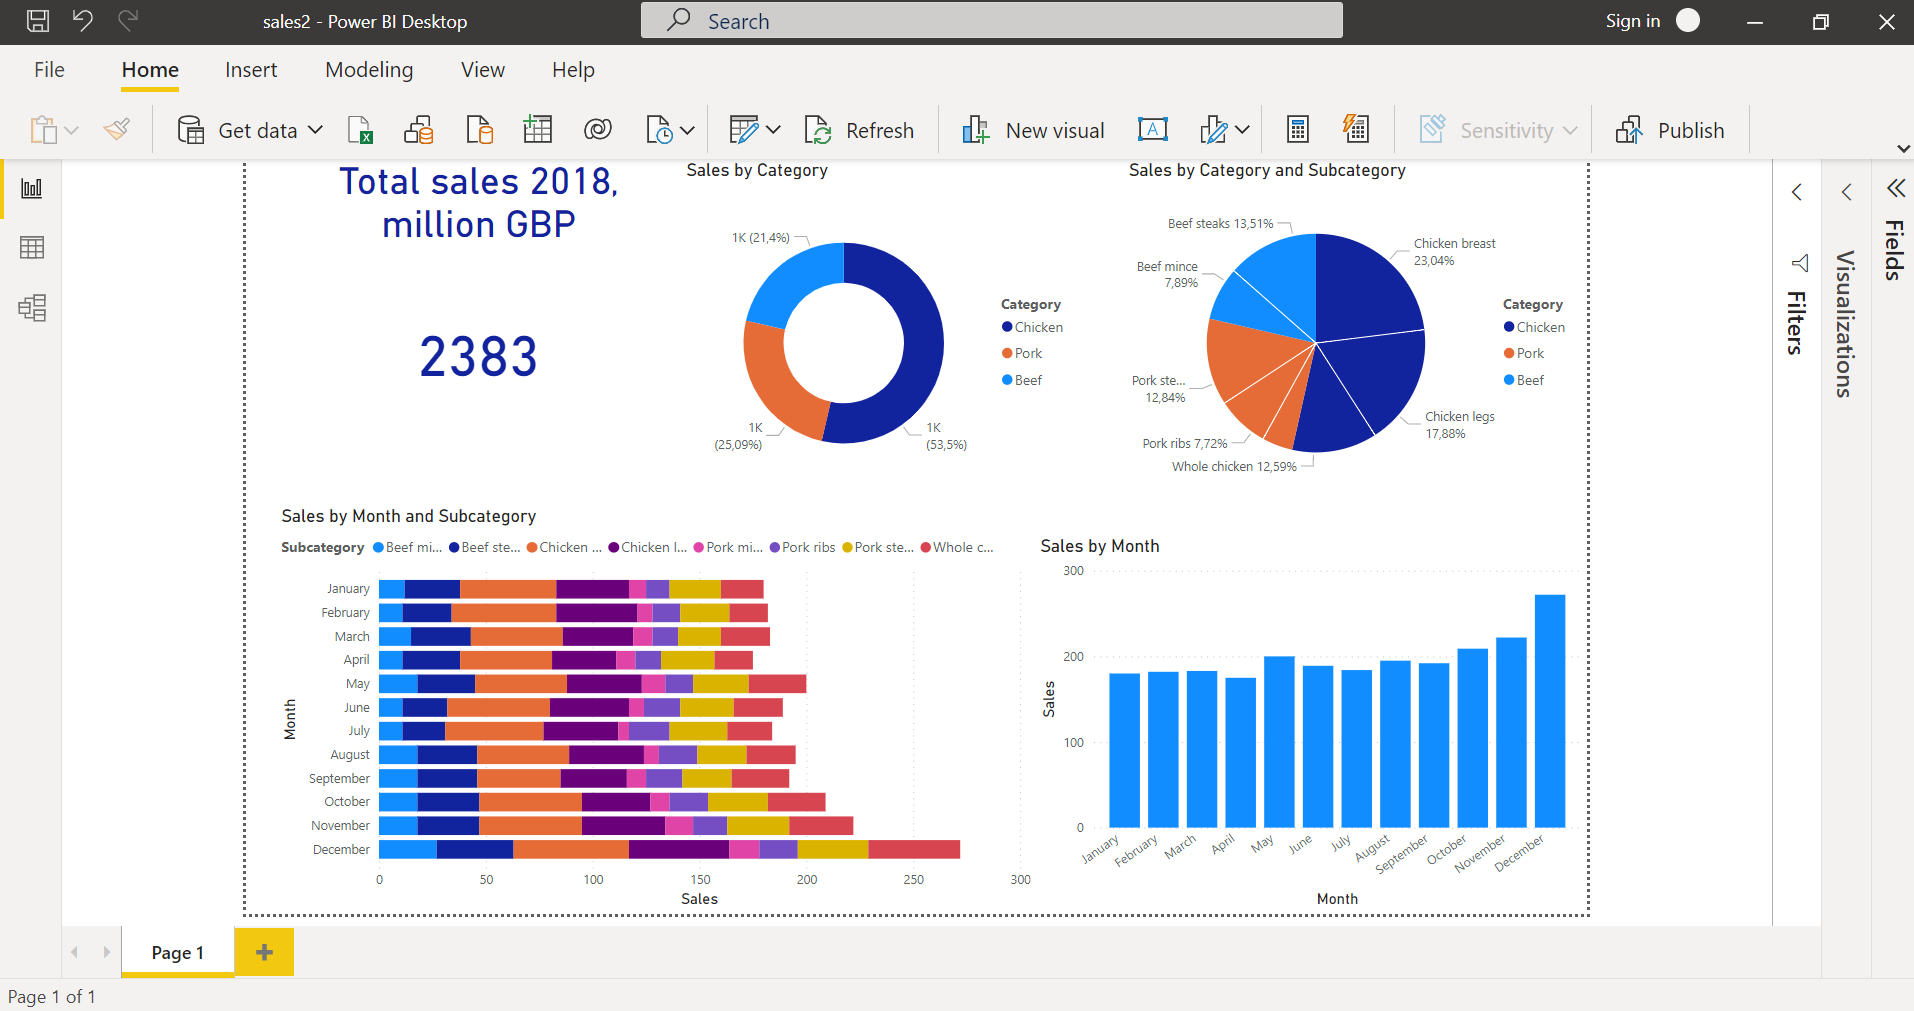

What the dashboard file says about the page in this screenshot:
{"tool":"powerbi","page":{"name":"Page 1","canvas":[1280,720],"ordinal":0},"visuals":[{"type":"clusteredColumnChart","fields":{"Category":["sales.Month.Variation.Date Hierarchy.Month"],"Y":["Sum(sales.Sales)"]},"box":[753.6,359.8,526.4,359.8],"z":0},{"type":"pieChart","fields":{"Category":["sales.Category"],"Series":["sales.Subcategory"],"Y":["Sum(sales.Sales)"]},"box":[836.9,0,443.1,331.4],"z":1},{"type":"donutChart","fields":{"Category":["sales.Category"],"Y":["Sum(sales.Sales)"]},"box":[414.7,0,386.3,331.4],"z":2},{"type":"barChart","fields":{"Category":["sales.Month.Variation.Date Hierarchy.Month"],"Series":["sales.Subcategory"],"Y":["Sum(sales.Sales)"]},"box":[28.4,331.4,725.2,388.2],"z":3},{"type":"card","title":"Total sales 2018, million GBP","fields":{"Values":["Sum(sales.Sales)"]},"box":[28.4,0,386.3,280.2],"z":4}]}

Visuals, with their boxes on the page's 1280x720 design canvas (x1, y1, x2, y2). These are canvas units, not pixel positions in the 1914x1011 screenshot, which may show the page scaled, cropped or inside an application window:
clusteredColumnChart - sales.Month.Variation.Date Hierarchy.Month x Sum(sales.Sales): Rect(754, 360, 1280, 720)
pieChart - sales.Category x sales.Subcategory: Rect(837, 0, 1280, 331)
donutChart - sales.Category x Sum(sales.Sales): Rect(415, 0, 801, 331)
barChart - sales.Month.Variation.Date Hierarchy.Month x sales.Subcategory: Rect(28, 331, 754, 720)
"Total sales 2018, million GBP" card: Rect(28, 0, 415, 280)
